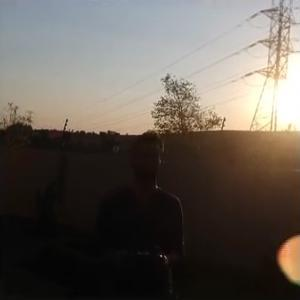follow: (92, 125, 186, 299)
